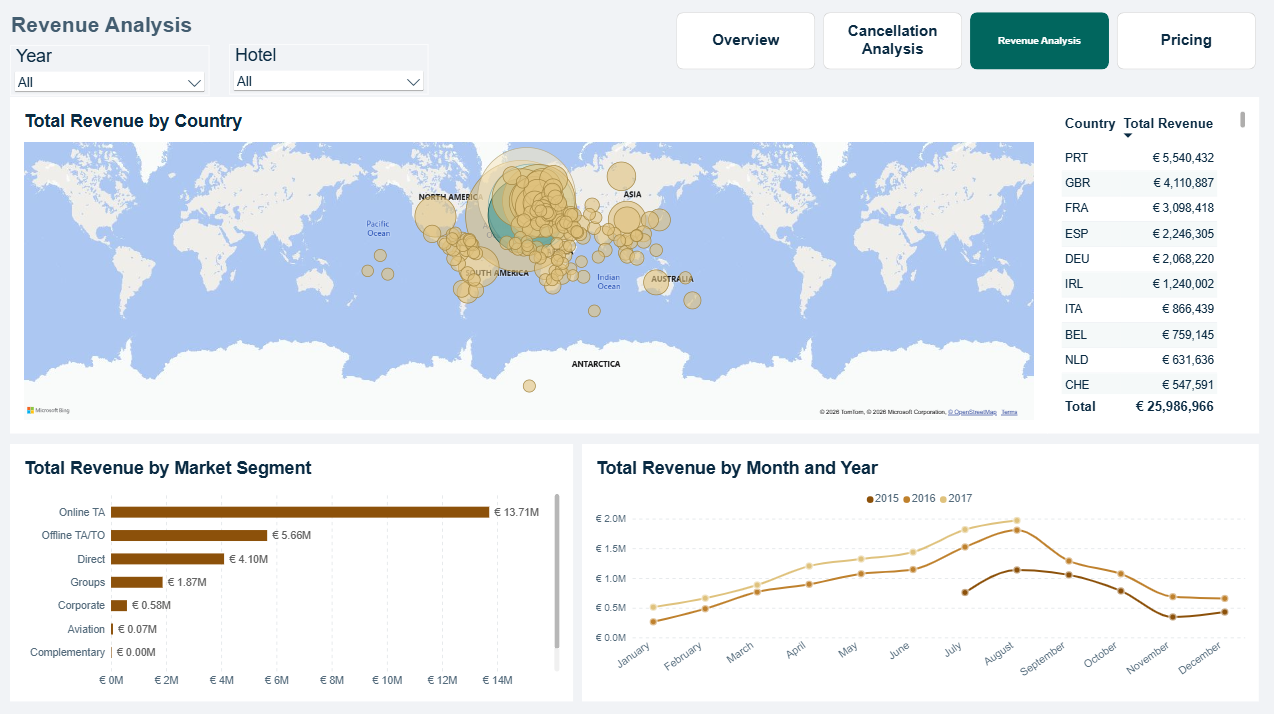

What the dashboard file says about the page in this screenshot:
{"tool":"powerbi","page":{"name":"Revenue Analysis","canvas":[1920,1080],"ordinal":2},"visuals":[{"type":"slicer","fields":{"Values":["DateTable.Year"]},"box":[18.5,70,299.9,75.8],"z":0},{"type":"slicer","fields":{"Values":["vw_bookings_detail.hotel"]},"box":[347.8,67.9,299.9,75.8],"z":1000},{"type":"map","fields":{"Category":["vw_bookings_detail.country"],"Size":["_Measures.Total Revenue"]},"box":[18.2,147.2,1561,506.2],"z":2000},{"type":"barChart","title":"Total Revenue by Market Segment","fields":{"Category":["vw_bookings_detail.market_segment"],"Y":["_Measures.Total Revenue"]},"box":[18.2,669.6,847.1,387.2],"z":3000},{"type":"lineChart","fields":{"Category":["DateTable.Month"],"Series":["DateTable.Year"],"Y":["_Measures.Total Revenue"]},"box":[879.3,669.6,1018.5,387.2],"z":4000},{"type":"textbox","box":[19,20.7,380.9,75.8],"z":5000},{"type":"pageNavigator","box":[1018.6,18.5,878.7,90.5],"z":6000},{"type":"tableEx","fields":{"Values":["vw_bookings_detail.country","_Measures.Total Revenue"]},"box":[1579.2,147.2,318.7,506.2],"z":7000}]}

Visuals, with their boxes in screenshot pixels (x1, y1, x2, y2), scaled from the page's 1920x1080 canvas onto the 1274x714 screenshot:
slicer - DateTable.Year: BBox(12, 46, 211, 96)
slicer - vw_bookings_detail.hotel: BBox(231, 45, 430, 95)
map - vw_bookings_detail.country x _Measures.Total Revenue: BBox(12, 97, 1048, 432)
"Total Revenue by Market Segment" barChart: BBox(12, 443, 574, 699)
lineChart - DateTable.Month x DateTable.Year: BBox(583, 443, 1259, 699)
textbox: BBox(13, 14, 265, 64)
pageNavigator: BBox(676, 12, 1259, 72)
tableEx - vw_bookings_detail.country x _Measures.Total Revenue: BBox(1048, 97, 1259, 432)
